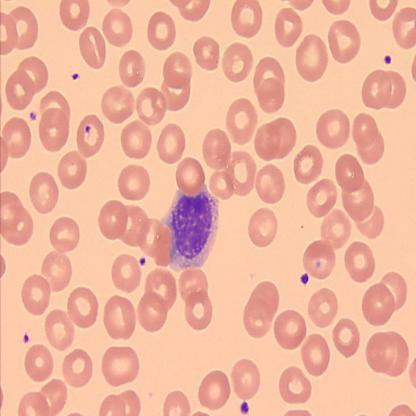Myelocyte: (165, 189, 219, 270)
